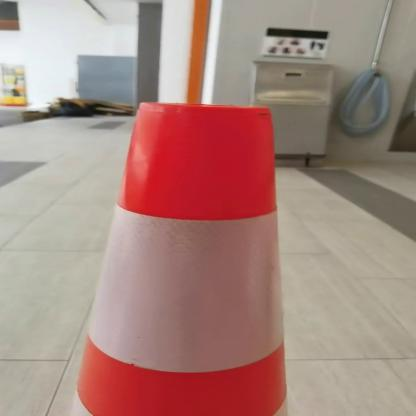cone_top: (70, 101, 300, 415)
